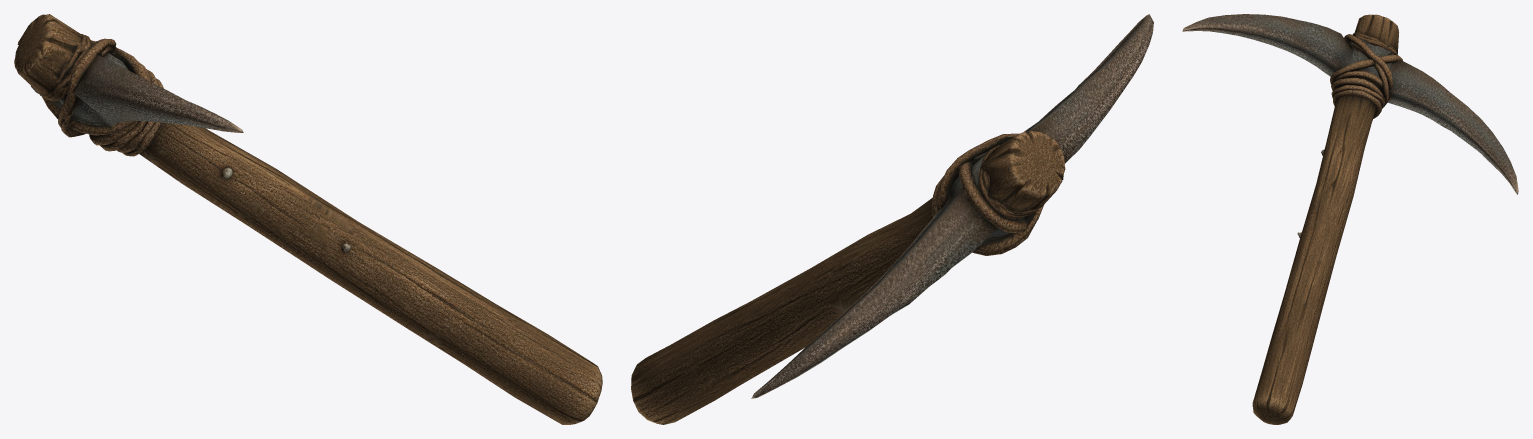
File: tripo_convert_49403417-b522-4c4e-8b66-e025003710fb.fbx
The picture shows the model from 3 angles, left to right: view 1: azimuth 30°, elevation 25°; view 2: azimuth 150°, elevation 25°; view 3: azimuth 270°, elevation 25°; orthographic projection. The views are drawn at different scales.
Parts seen in each view (by area): view 1: tripo_node_49403417; view 2: tripo_node_49403417; view 3: tripo_node_49403417.
Boxes of the visible parts, x1,y1,x2,y2 form: tripo_node_49403417: (14,14,602,424); tripo_node_49403417: (631,14,1153,424); tripo_node_49403417: (1182,14,1518,424).
Bounding box in the file's own units: 0.998 × 0.877 × 0.9512.
Materials: 1 (1 with a texture image).
